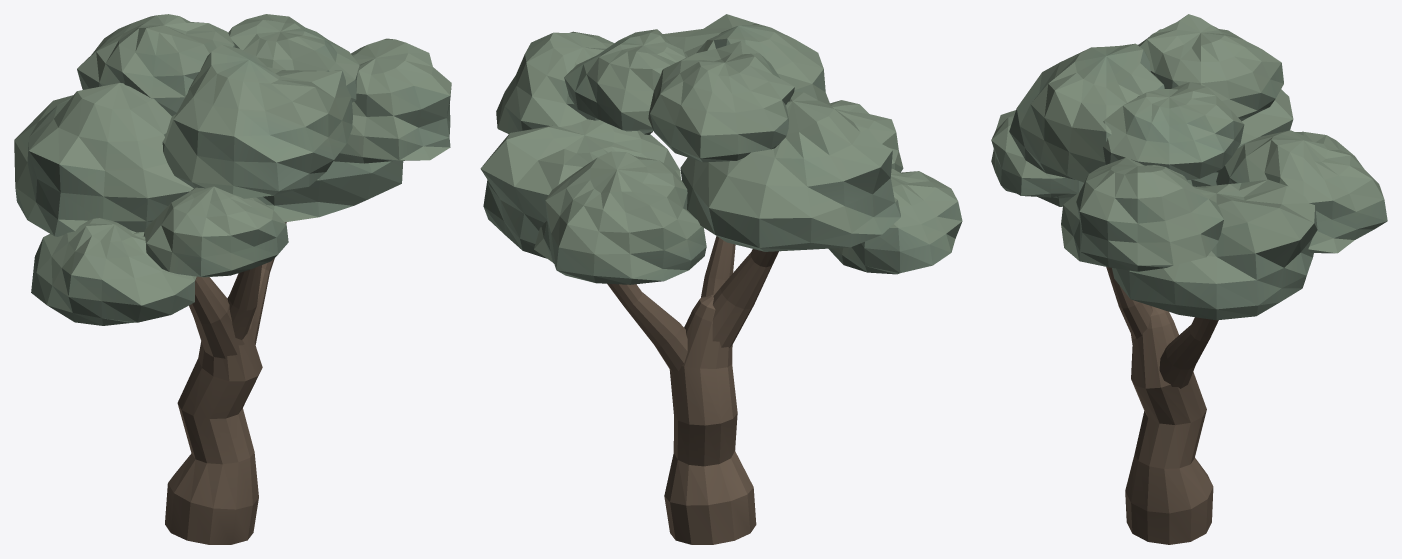
Rendered from olivier.glb.
3 views of the same model, side by side, from view 1: azimuth 30°, elevation 25°; view 2: azimuth 150°, elevation 25°; view 3: azimuth 270°, elevation 25° (orthographic). The views are drawn at different scales.
Visible parts, largest first — view 1: olivier; view 2: olivier; view 3: olivier.
Boxes of the visible parts, x1=… form: olivier: x1=14, y1=14, x2=451, y2=544; olivier: x1=480, y1=14, x2=962, y2=544; olivier: x1=991, y1=14, x2=1387, y2=544.
Size of the model in its own units: 2.98 by 3.41 by 2.51.
